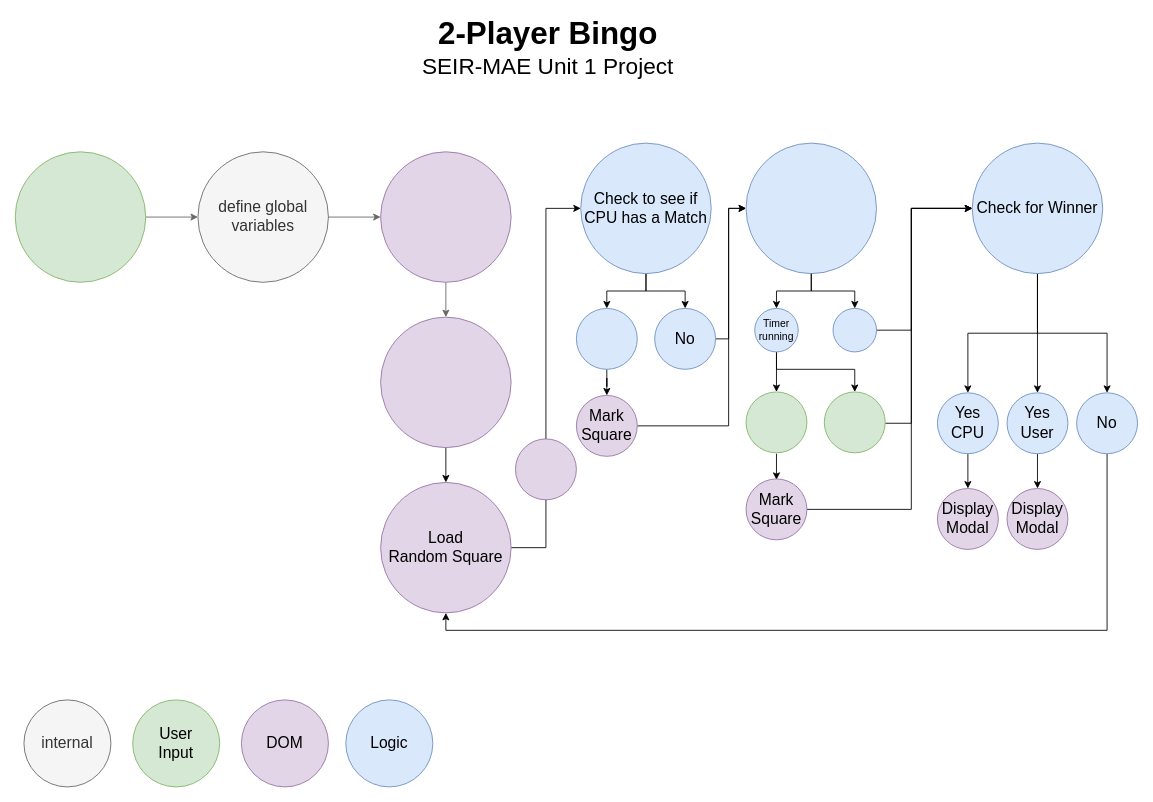
The diagram is 1153 pixels wide and 802 high, and some of its shapes have lost their labels. The shapes that lost their labels are listed below. From the top down, each one's box as (x1, y1, x2, y2) in pixels, then its label:
(14, 151, 146, 282): Ask User what game they want to play
(380, 151, 511, 282): Load User Board
(745, 142, 877, 274): Wait for user input
(576, 308, 637, 369): Yes
(832, 308, 877, 352): Timer done
(380, 316, 511, 448): Load CPU Board
(745, 391, 807, 453): Match
(823, 391, 885, 453): No Match
(515, 438, 576, 500): Start Timer
